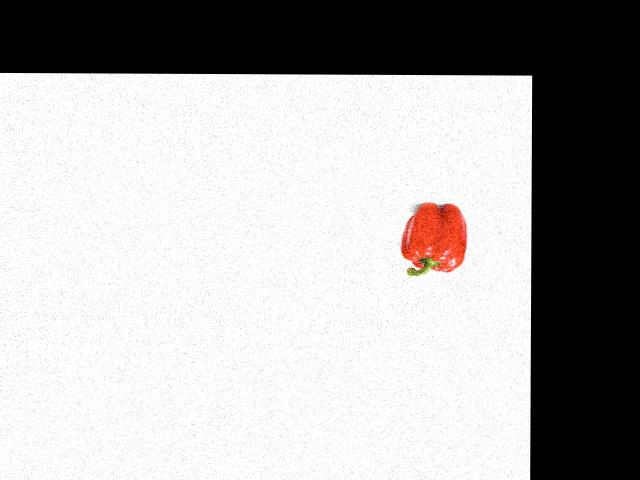bell_pepper: (400, 201, 468, 277)
